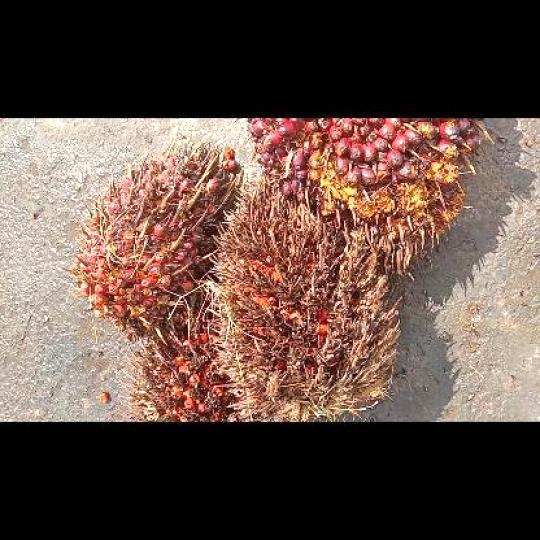masak: (247, 118, 491, 274), (66, 138, 238, 342)
terlalu masak: (204, 177, 401, 420), (116, 309, 237, 421)
